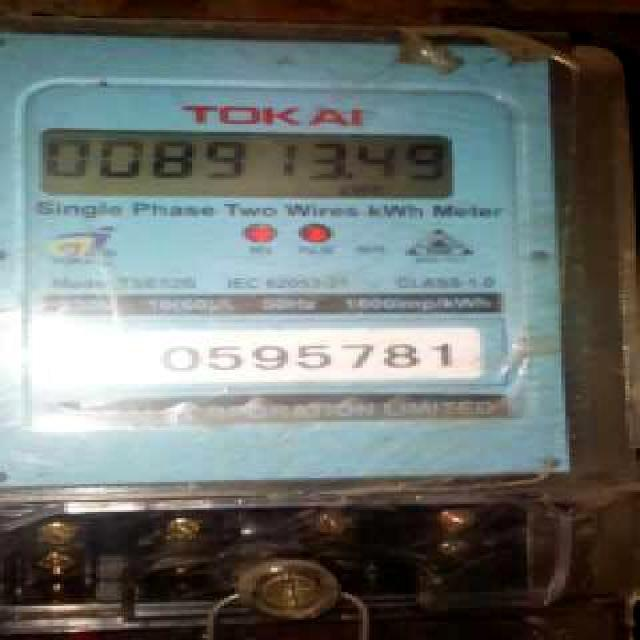LCD: (30, 115, 466, 211)
